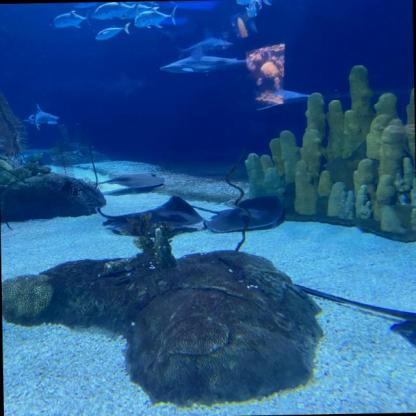fish: (131, 9, 178, 29), (91, 4, 138, 21), (120, 4, 164, 22), (50, 12, 87, 29), (93, 27, 121, 40), (242, 2, 264, 18), (70, 1, 102, 12)
shark: (158, 49, 249, 75), (250, 86, 316, 108), (105, 76, 147, 96), (22, 108, 58, 130)
stingray: (102, 197, 204, 241), (204, 194, 288, 235), (382, 310, 416, 356), (107, 169, 167, 194)
